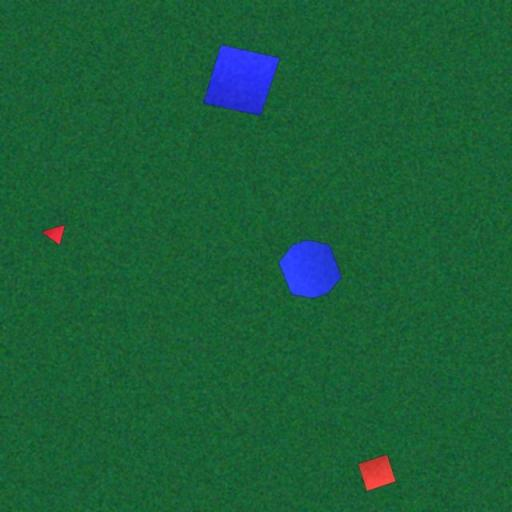BLUE_SQUARE: (202, 44, 281, 117)
RED_SQUARE: (358, 454, 396, 492)
